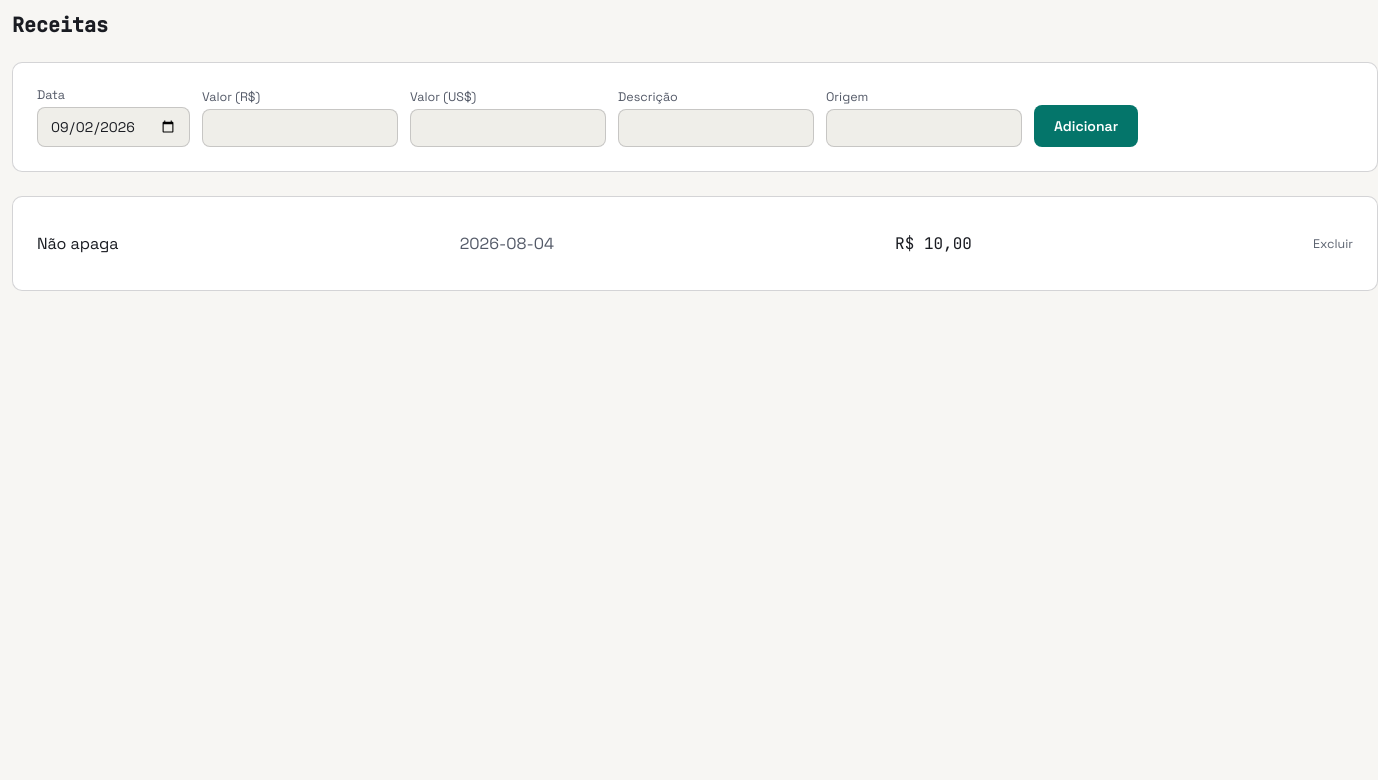
it: ReceitasPage › shows an error when the delete request fails
This screenshot has width=1378, height=780.
Expected: the text "Não apaga" is shown, left=37, top=233, right=119, bottom=254
Click the button with aria-label "Excluir lançamento de 2026-08-04": (1333, 244) left=1313, top=233, right=1353, bottom=254
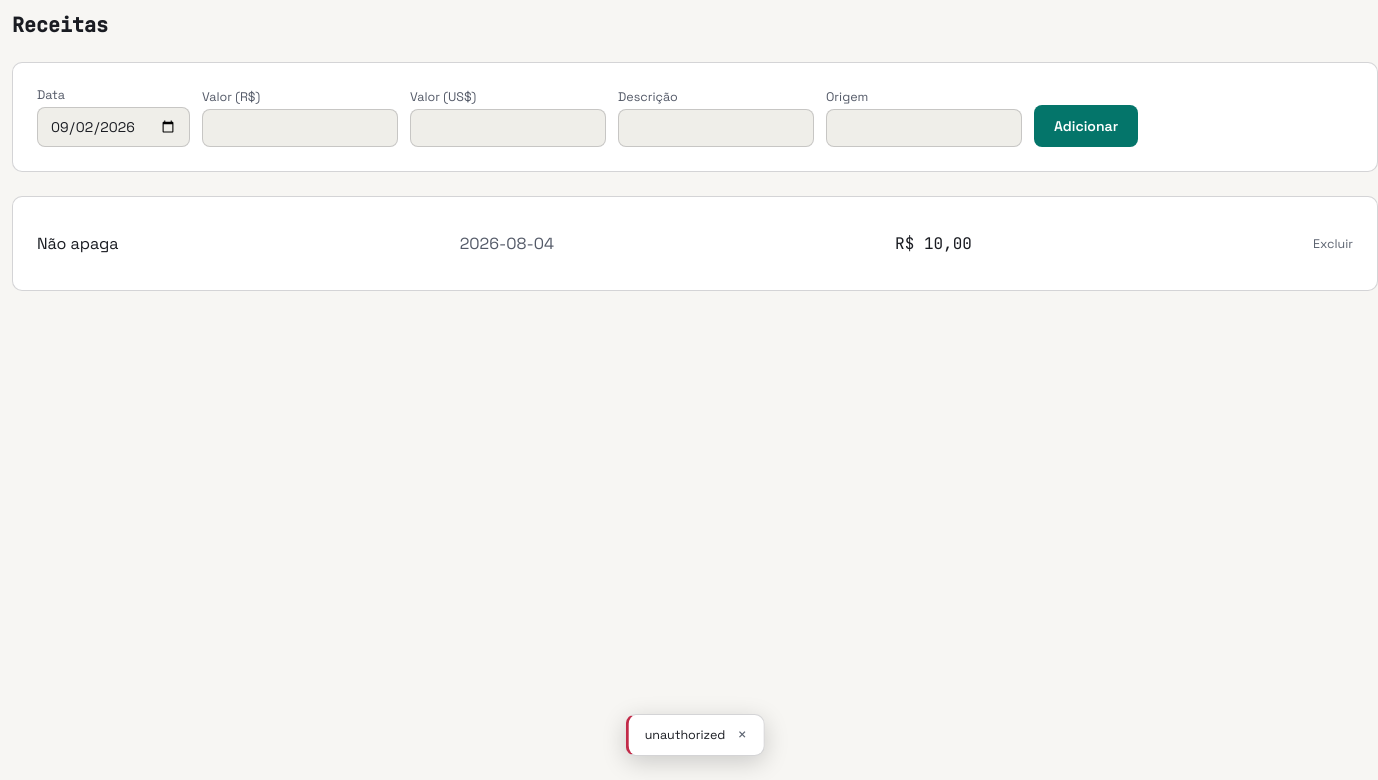
Now the text "unauthorized" is shown, box left=645, top=727, right=725, bottom=743
